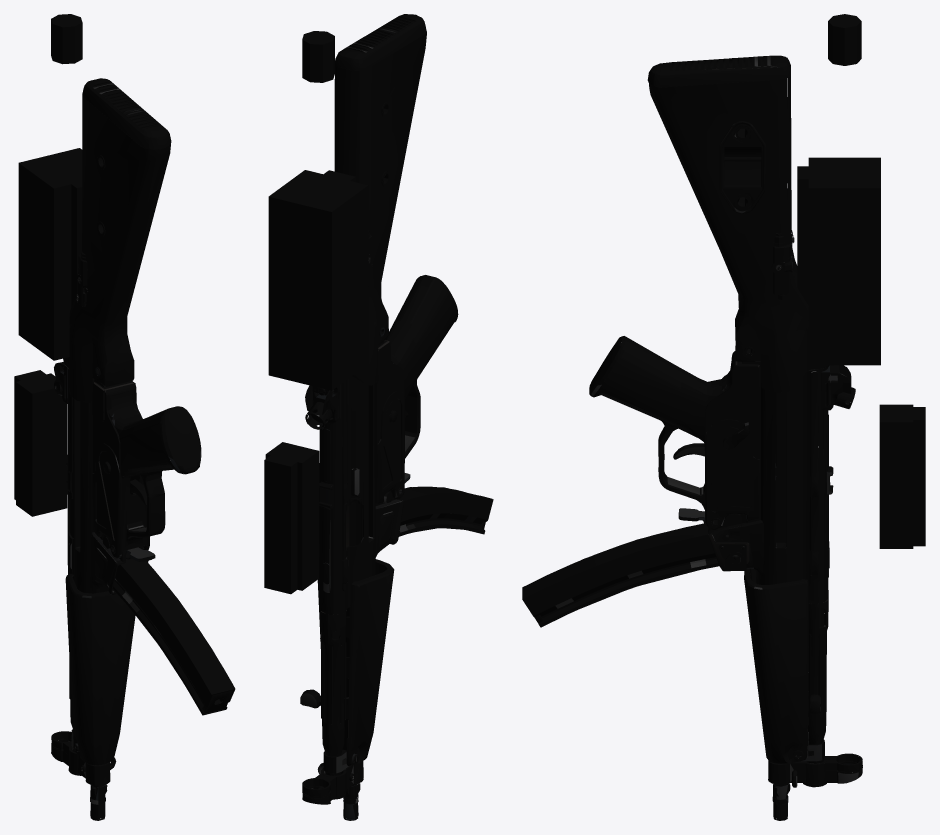
The model's file is MP5A3__Adapter_HK_3Lug__Handguard_MP5_Rail__Laser_Pistol__Mount_HK_Claw.fbx.
3 renders of one model, left to right at view 1: azimuth 30°, elevation 25°; view 2: azimuth 150°, elevation 25°; view 3: azimuth 270°, elevation 25°, orthographic. The views are drawn at different scales.
Parts seen in each view (by area): view 1: asset_MP5A3.001; view 2: asset_MP5A3.001; view 3: asset_MP5A3.001.
Boxes of the visible parts, left/top/right/bottom form: asset_MP5A3.001: left=14, top=14, right=235, bottom=820; asset_MP5A3.001: left=264, top=14, right=493, bottom=820; asset_MP5A3.001: left=522, top=14, right=925, bottom=820.
Size of the model in its own units: 0.0324 by 0.378 by 0.1734.
